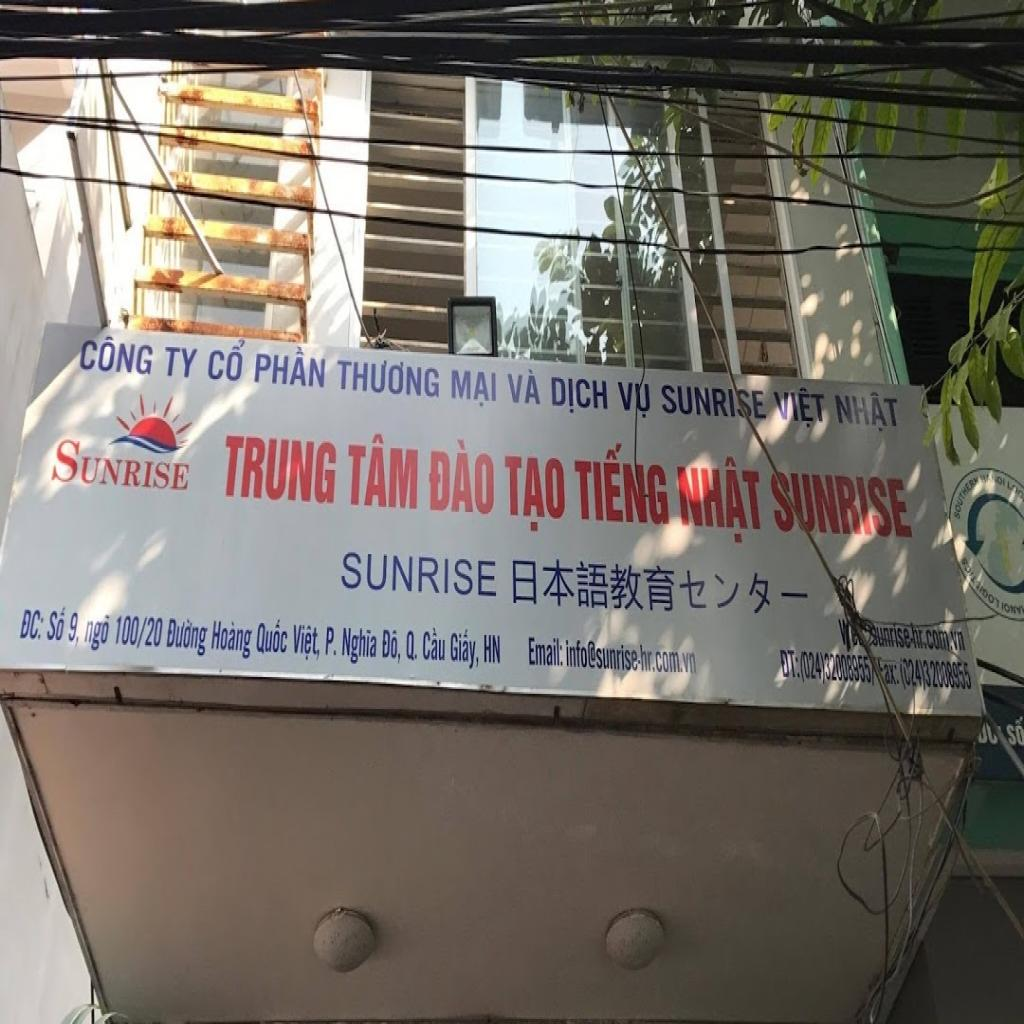text: (767, 470, 917, 542), (44, 431, 194, 500), (336, 544, 498, 603), (220, 430, 339, 508), (674, 452, 768, 548), (570, 438, 671, 527), (346, 428, 421, 512), (564, 636, 702, 680), (332, 350, 443, 404), (425, 435, 497, 517), (657, 379, 770, 428), (503, 453, 567, 536), (249, 337, 328, 394), (77, 325, 157, 381), (832, 386, 906, 438), (868, 620, 969, 655), (547, 369, 613, 419), (770, 382, 832, 433), (799, 648, 874, 689), (900, 655, 976, 694), (208, 610, 255, 664), (448, 364, 500, 411), (163, 610, 210, 662), (111, 610, 165, 654), (205, 334, 250, 386), (951, 462, 982, 527), (504, 360, 544, 410), (615, 376, 656, 424), (340, 622, 380, 670), (162, 340, 203, 386), (448, 620, 482, 675), (253, 613, 290, 659), (290, 618, 322, 669), (525, 632, 565, 672), (14, 603, 50, 645), (82, 610, 113, 655), (420, 620, 448, 667), (379, 621, 404, 672), (44, 600, 68, 645), (480, 628, 502, 672), (1003, 708, 1024, 750), (779, 647, 802, 682), (66, 606, 82, 654), (322, 620, 340, 662), (405, 625, 421, 667), (977, 468, 1007, 490), (882, 660, 902, 689)
